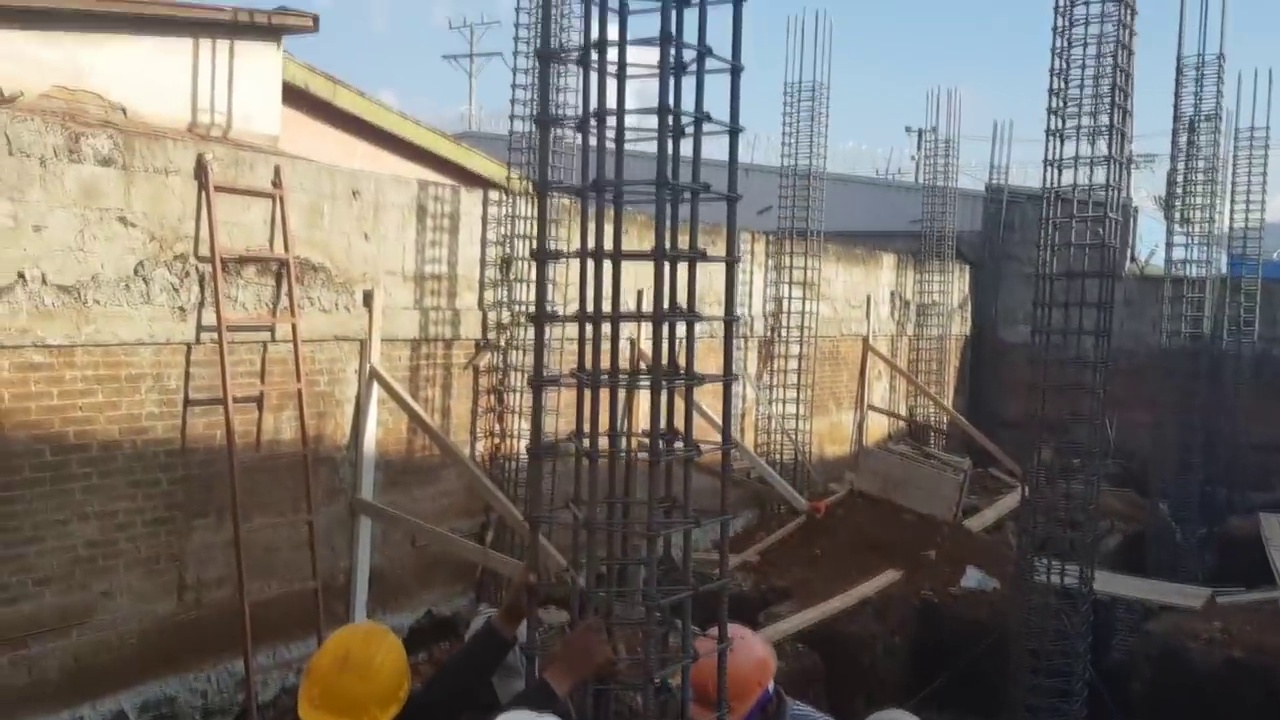helmet: (293, 634, 407, 714), (691, 624, 772, 710)
